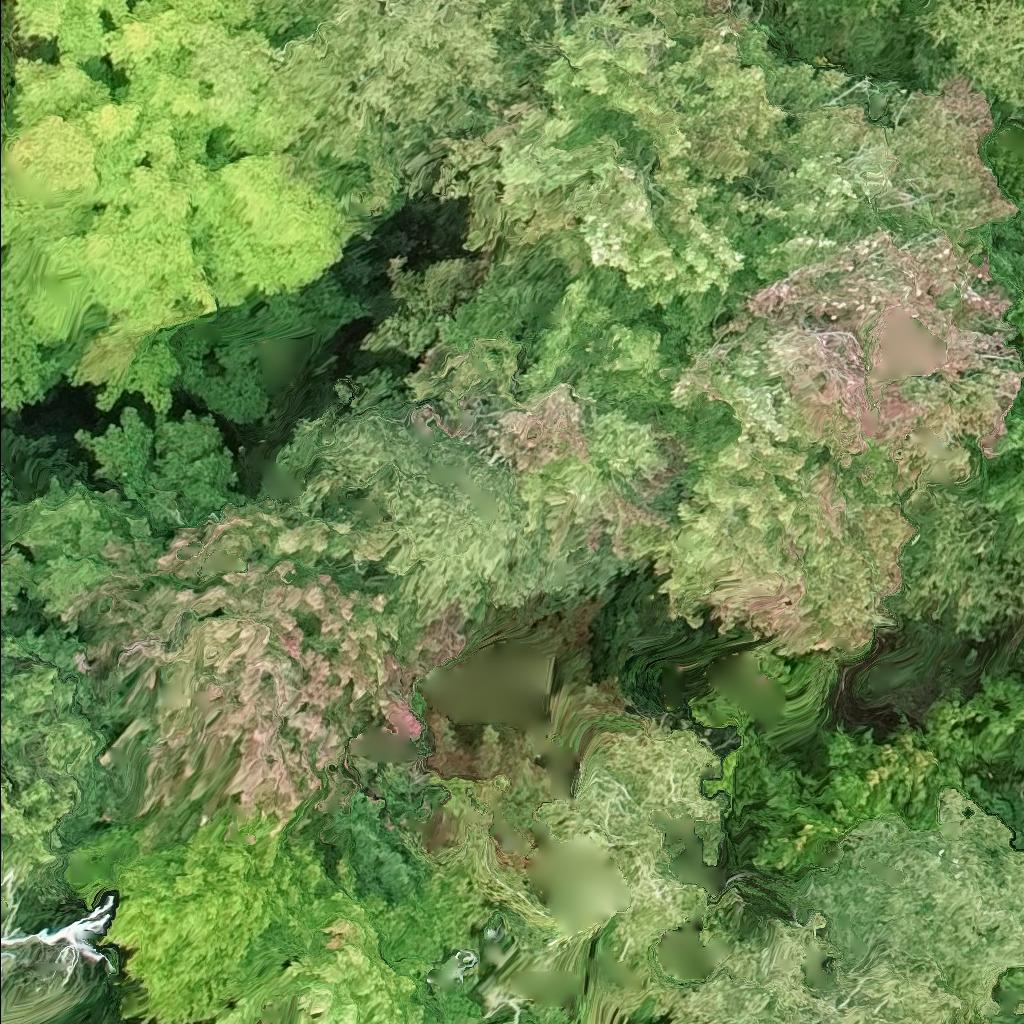crown: (0, 0, 350, 417), (904, 0, 1023, 116), (986, 412, 1023, 529), (1005, 292, 1023, 360), (1021, 381, 1023, 389)
